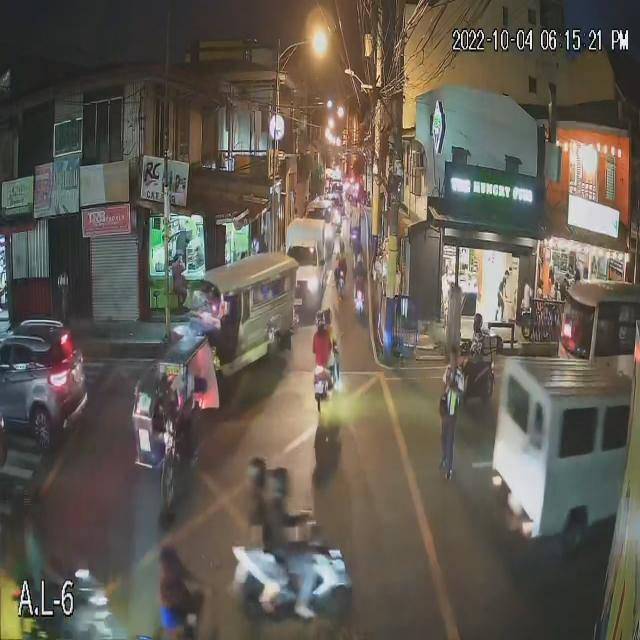helmet: (470, 316, 484, 328), (316, 312, 329, 324)
motorcycle: (232, 549, 348, 622), (311, 368, 346, 412), (458, 361, 496, 396), (355, 292, 369, 314), (335, 268, 347, 292)
rider: (272, 497, 285, 548), (254, 496, 266, 548), (316, 332, 328, 366), (473, 335, 483, 374)
